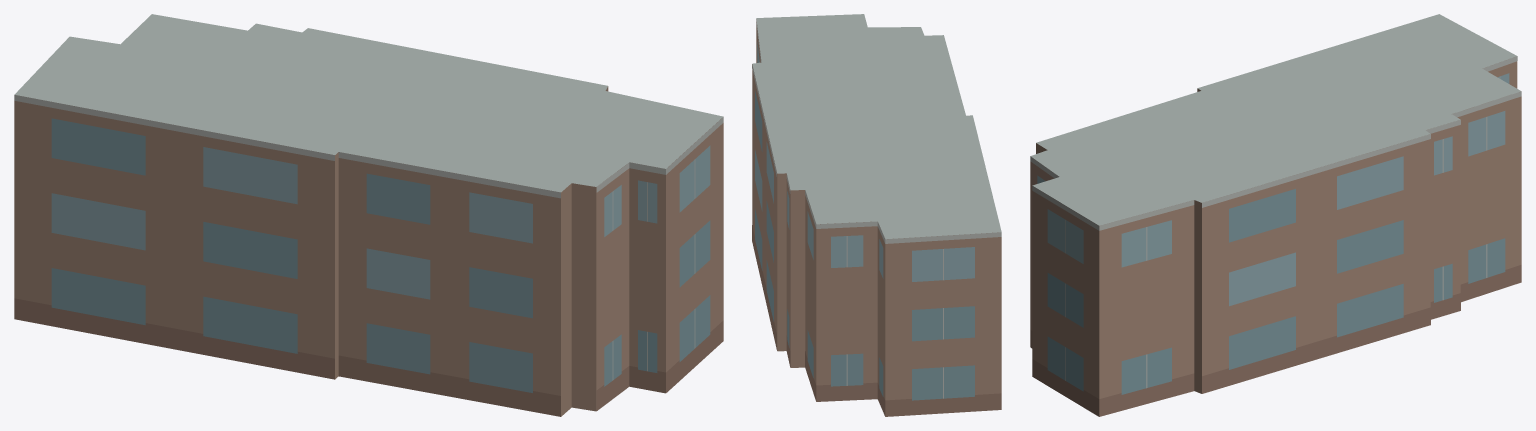
File: survey-upis-32480273.glb
3 views of the same model, side by side, from view 1: azimuth 30°, elevation 25°; view 2: azimuth 150°, elevation 25°; view 3: azimuth 270°, elevation 25° (orthographic). The views are drawn at different scales.
Visible parts, largest first — view 1: survey-upis-32480273.tmp; view 2: survey-upis-32480273.tmp; view 3: survey-upis-32480273.tmp.
Part boxes in pixels (bbox=[...]): survey-upis-32480273.tmp: bbox=[14, 14, 723, 416]; survey-upis-32480273.tmp: bbox=[752, 14, 1001, 416]; survey-upis-32480273.tmp: bbox=[1030, 14, 1521, 416].
Size of the model in its own units: 21.75 by 9.15 by 21.32.
